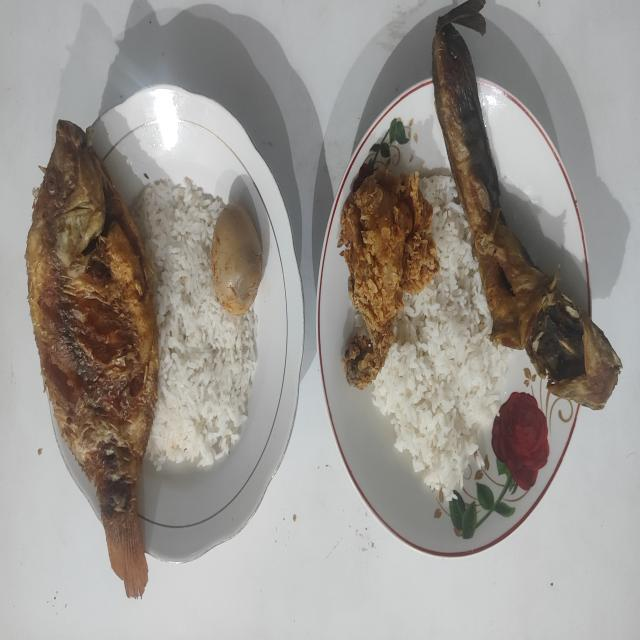ikan_mujair: (25, 120, 159, 598)
nasi_putih: (372, 176, 512, 499), (131, 178, 257, 470)
